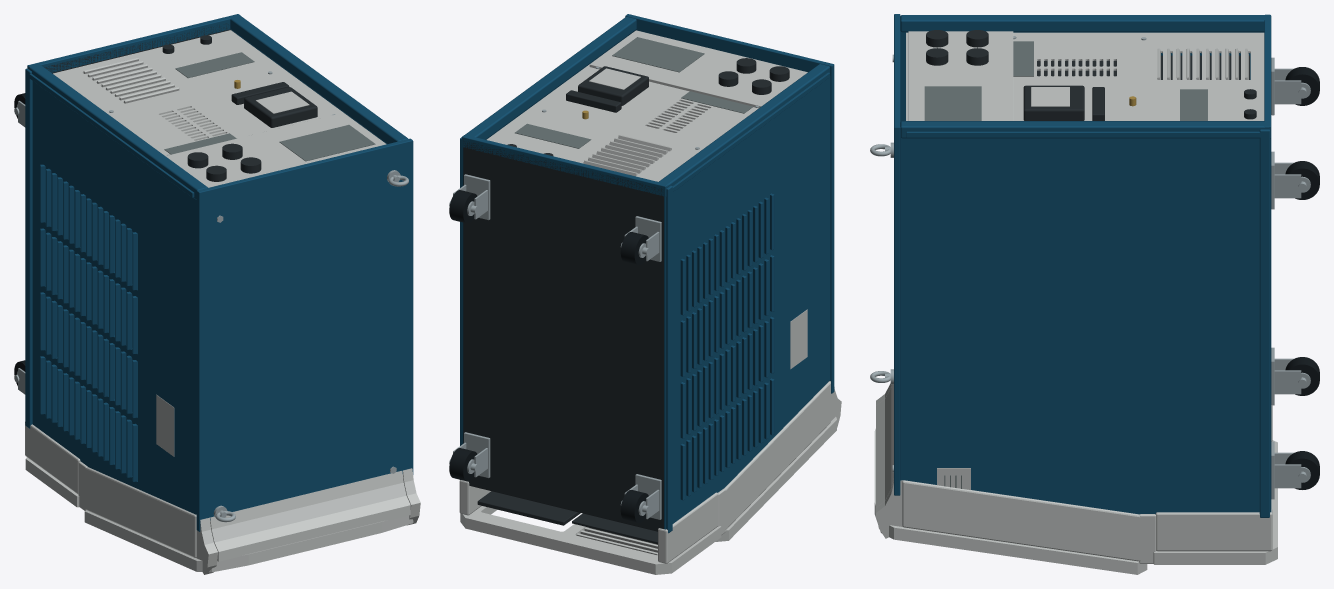
3 renders of one model, left to right at view 1: azimuth 30°, elevation 25°; view 2: azimuth 150°, elevation 25°; view 3: azimuth 270°, elevation 25°, orthographic. The views are drawn at different scales.
Visible parts, largest first — view 1: roof_panel, left_side_vented_skin, rear_service_sheet, moulded_crown_return, fascia_left_upper_return, rear_io_cover, upper_sculpted_front_fascia, rear_blue_return_-1, side_left_lower_return, rear_blue_return_1, rear_blue_lower_return, fascia_left_lower_return (+11 smaller); view 2: bottom_chassis, left_side_vented_skin, rear_service_sheet, rear_io_cover, lower_sculpted_front_fascia, fascia_left_upper_return, roof_panel, rear_blue_return_-1, rear_blue_lower_return, rear_blue_return_1, side_left_lower_return, fascia_left_lower_return (+22 smaller); view 3: right_side_skin, rear_service_sheet, fascia_right_upper_return, rear_blue_return_1, rear_io_cover, rear_blue_return_-1, fascia_right_lower_return, side_right_lower_return, upper_sculpted_front_fascia, roof_panel, side_right_rear_seam, lower_sculpted_front_fascia (+20 smaller).
Part boxes in pixels (<box>): roof_panel: <box>196,138,413,531</box>; left_side_vented_skin: <box>32,81,196,514</box>; rear_service_sheet: <box>53,30,343,155</box>; moulded_crown_return: <box>210,471,410,561</box>; fascia_left_upper_return: <box>84,467,196,557</box>; rear_io_cover: <box>165,112,386,187</box>; upper_sculpted_front_fascia: <box>84,510,413,572</box>; rear_blue_return_-1: <box>230,15,408,143</box>; side_left_lower_return: <box>25,68,32,428</box>; rear_blue_return_1: <box>27,63,207,199</box>; rear_blue_lower_return: <box>27,14,240,72</box>; fascia_left_lower_return: <box>25,422,80,493</box>; bottom_chassis: <box>463,140,663,531</box>; left_side_vented_skin: <box>664,76,830,529</box>; rear_service_sheet: <box>486,64,758,181</box>; rear_io_cover: <box>589,30,807,108</box>; lower_sculpted_front_fascia: <box>460,506,721,574</box>; fascia_left_upper_return: <box>724,381,830,529</box>; roof_panel: <box>625,14,834,393</box>; rear_blue_return_-1: <box>462,17,636,148</box>; rear_blue_lower_return: <box>462,135,668,196</box>; rear_blue_return_1: <box>656,64,830,195</box>; side_left_lower_return: <box>666,185,672,533</box>; fascia_left_lower_return: <box>658,492,718,563</box>; right_side_skin: <box>900,127,1271,514</box>; rear_service_sheet: <box>906,32,1264,120</box>; fascia_right_upper_return: <box>902,480,1141,561</box>; rear_blue_return_1: <box>900,15,1268,32</box>; rear_io_cover: <box>908,31,1013,120</box>; rear_blue_return_-1: <box>900,121,1269,138</box>; fascia_right_lower_return: <box>1155,509,1272,551</box>; side_right_lower_return: <box>1259,129,1269,517</box>; upper_sculpted_front_fascia: <box>874,428,1147,574</box>; roof_panel: <box>894,14,900,495</box>; side_right_rear_seam: <box>906,131,1264,137</box>; lower_sculpted_front_fascia: <box>1153,440,1277,564</box>.
Bounding box in the file's own units: 0.395 × 0.71 × 0.6465.
